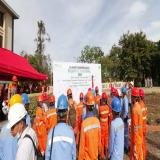Helmet: (6, 103, 28, 129), (8, 94, 25, 108), (110, 97, 122, 114), (56, 94, 68, 110), (84, 91, 95, 107), (20, 92, 30, 104), (130, 88, 140, 99), (37, 95, 44, 104), (138, 88, 144, 98), (49, 94, 56, 102), (42, 92, 48, 100), (101, 92, 107, 100), (121, 86, 127, 94), (67, 87, 72, 96), (110, 87, 116, 94), (12, 76, 18, 82), (80, 91, 84, 98), (95, 86, 99, 91)
